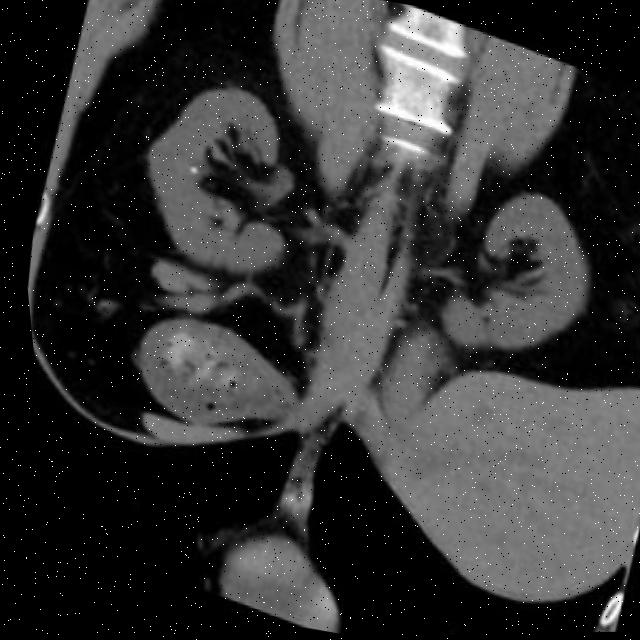Tas_Var: (181, 163, 197, 179)
